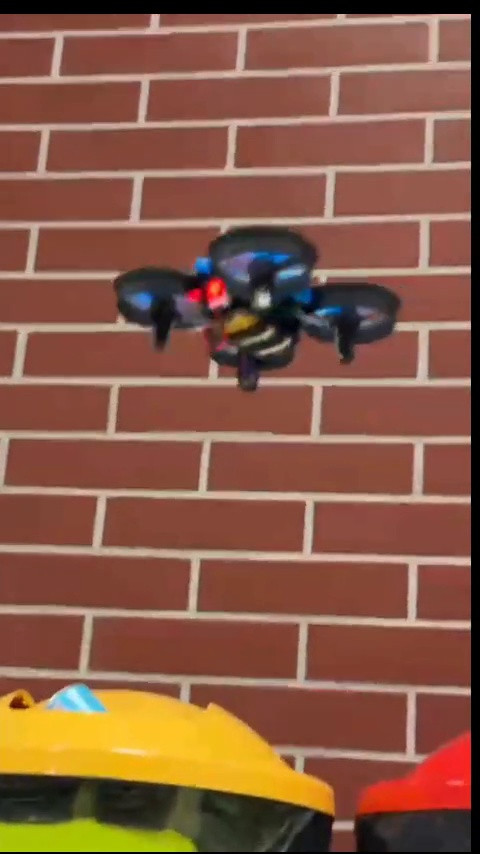drone: (118, 229, 404, 394)
